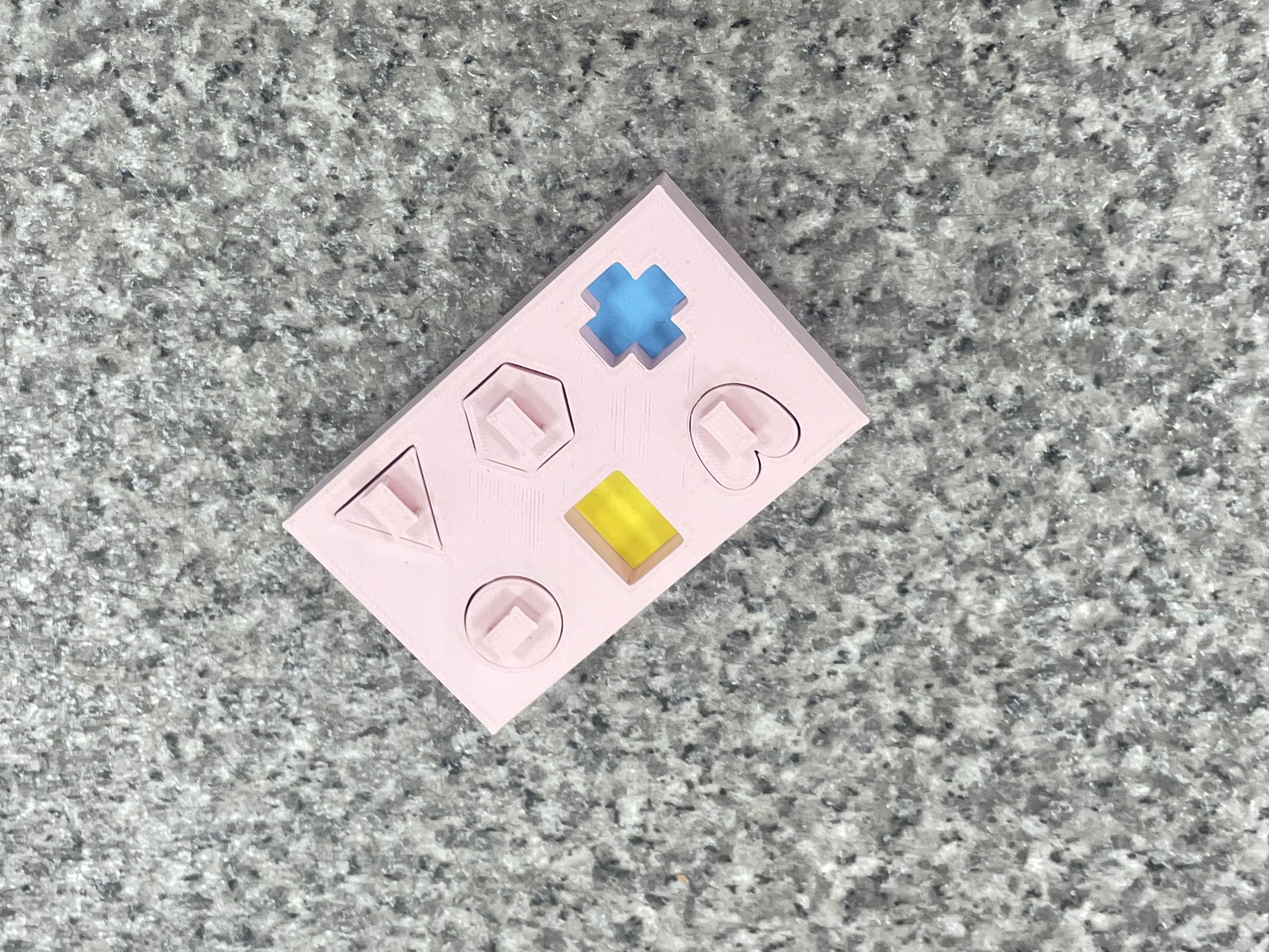unsolved: (283, 178, 882, 741)
